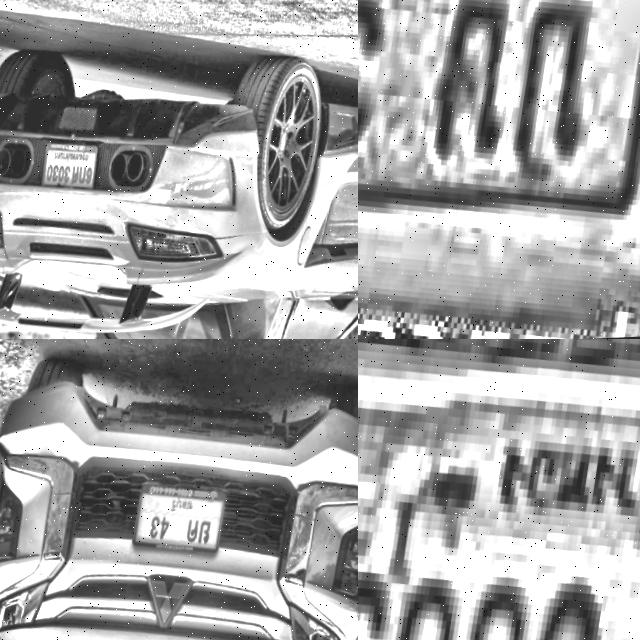license-plate: (358, 339, 640, 640), (358, 0, 640, 284), (132, 482, 227, 562), (40, 138, 101, 197)
